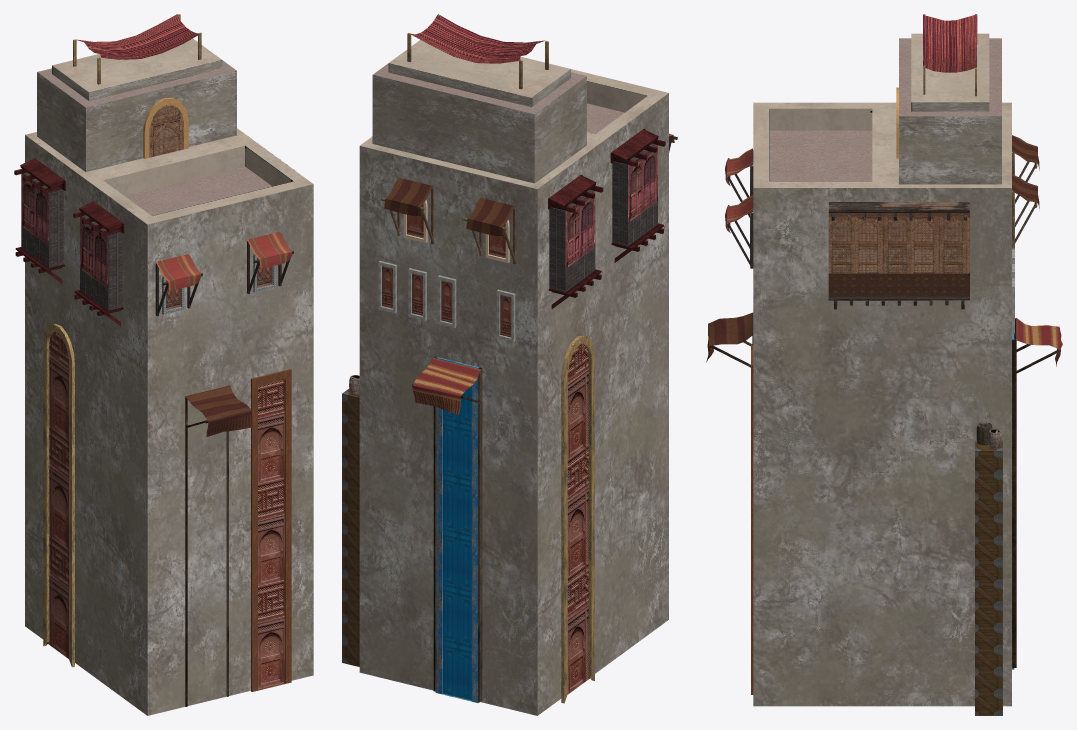
Rendered from medina_cityscape_daar_05_5.gltf.
The picture shows the model from 3 angles, left to right: view 1: azimuth 30°, elevation 25°; view 2: azimuth 150°, elevation 25°; view 3: azimuth 270°, elevation 25°; orthographic projection. The views are drawn at different scales.
Parts seen in each view (by area): view 1: medina_cityscape_daar_05_5; view 2: medina_cityscape_daar_05_5; view 3: medina_cityscape_daar_05_5.
Boxes of the visible parts, <box> form: medina_cityscape_daar_05_5: <box>14,14,313,715</box>; medina_cityscape_daar_05_5: <box>342,14,677,715</box>; medina_cityscape_daar_05_5: <box>706,14,1062,715</box>.
Size of the model in its own units: 4.47 by 12.16 by 6.27.
Materials: 17 (17 with a texture image).
